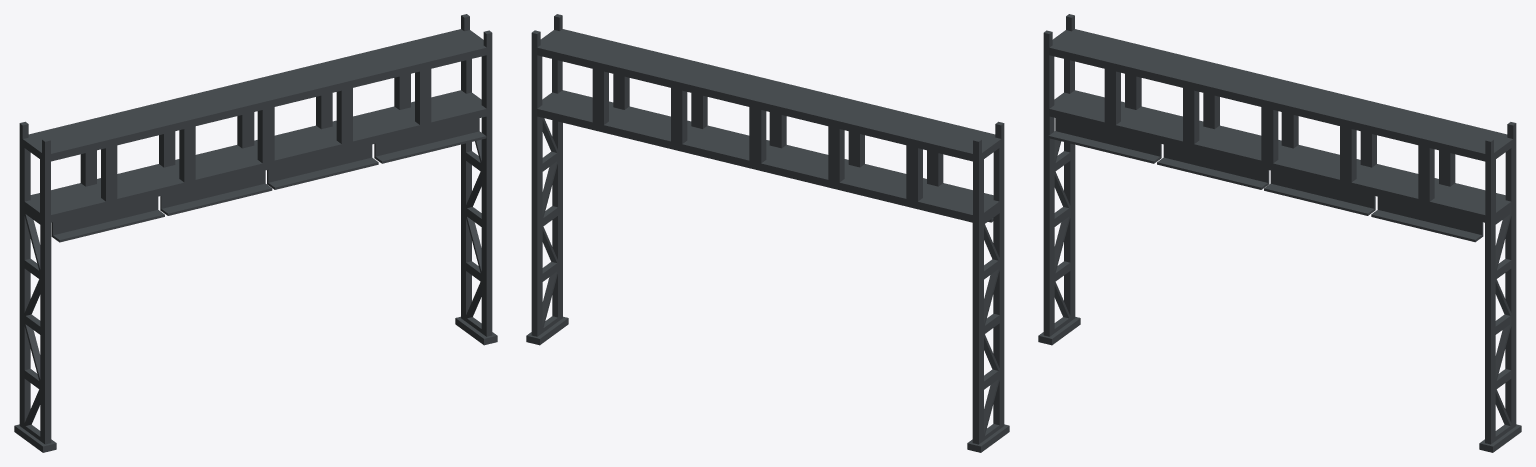
The model's file is SM_FloorProps_RoadSign_26.fbx.
3 views of the same model, side by side, from view 1: azimuth 30°, elevation 25°; view 2: azimuth 150°, elevation 25°; view 3: azimuth 330°, elevation 25° (orthographic).
Visible parts, largest first — view 1: SM_FloorProps_RoadSign_26; view 2: SM_FloorProps_RoadSign_26; view 3: SM_FloorProps_RoadSign_26.
Boxes of the visible parts, left/top/right/bottom form: SM_FloorProps_RoadSign_26: left=14, top=14, right=497, bottom=452; SM_FloorProps_RoadSign_26: left=526, top=14, right=1009, bottom=452; SM_FloorProps_RoadSign_26: left=1038, top=14, right=1521, bottom=452.
Bounding box in the file's own units: 10.63 × 6.91 × 1.29.
